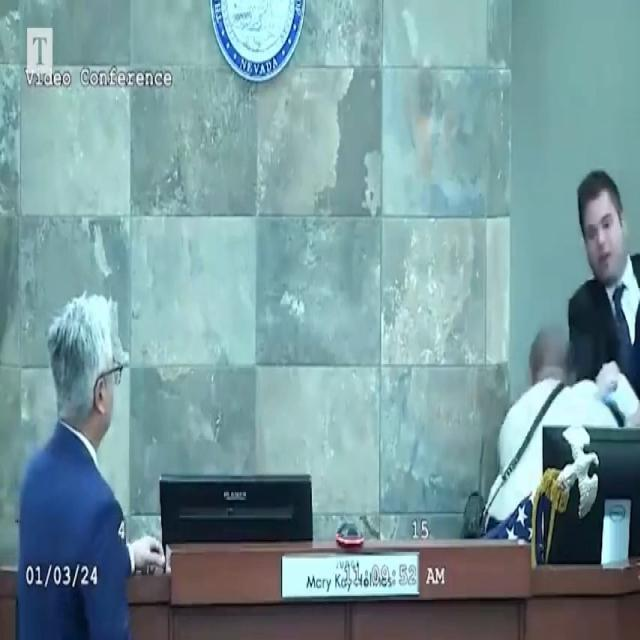fight: (478, 166, 640, 540)
non-fight: (12, 285, 134, 640)
